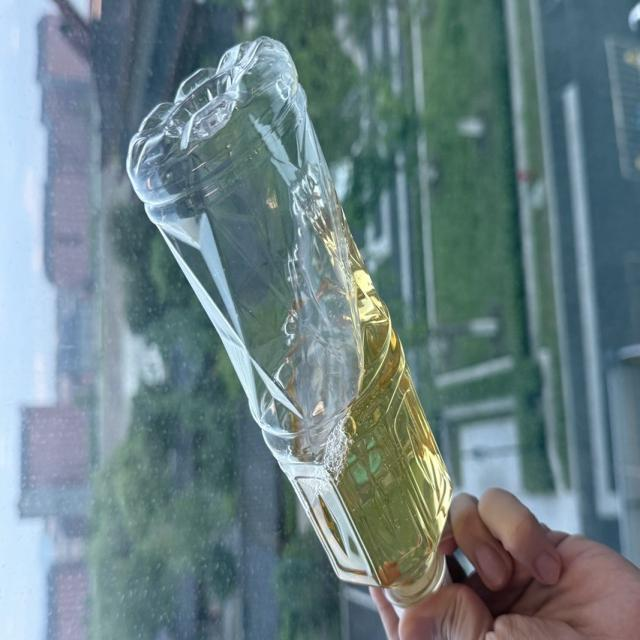medium: (127, 37, 452, 606)
